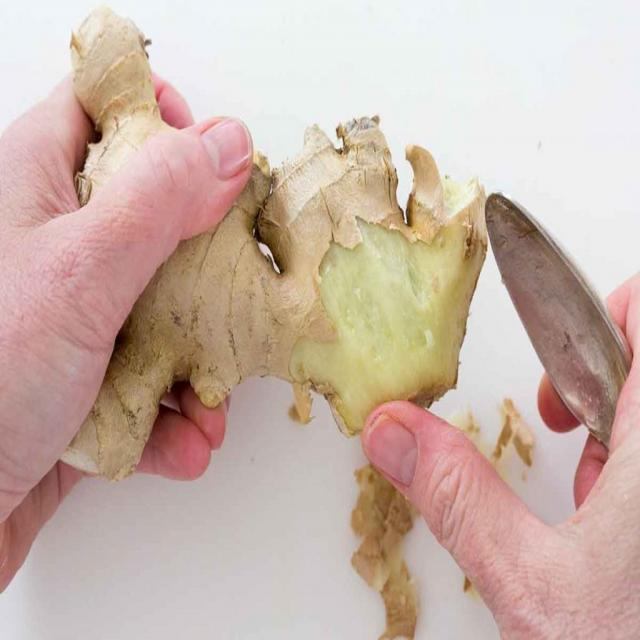ginger: (157, 232, 478, 410)
